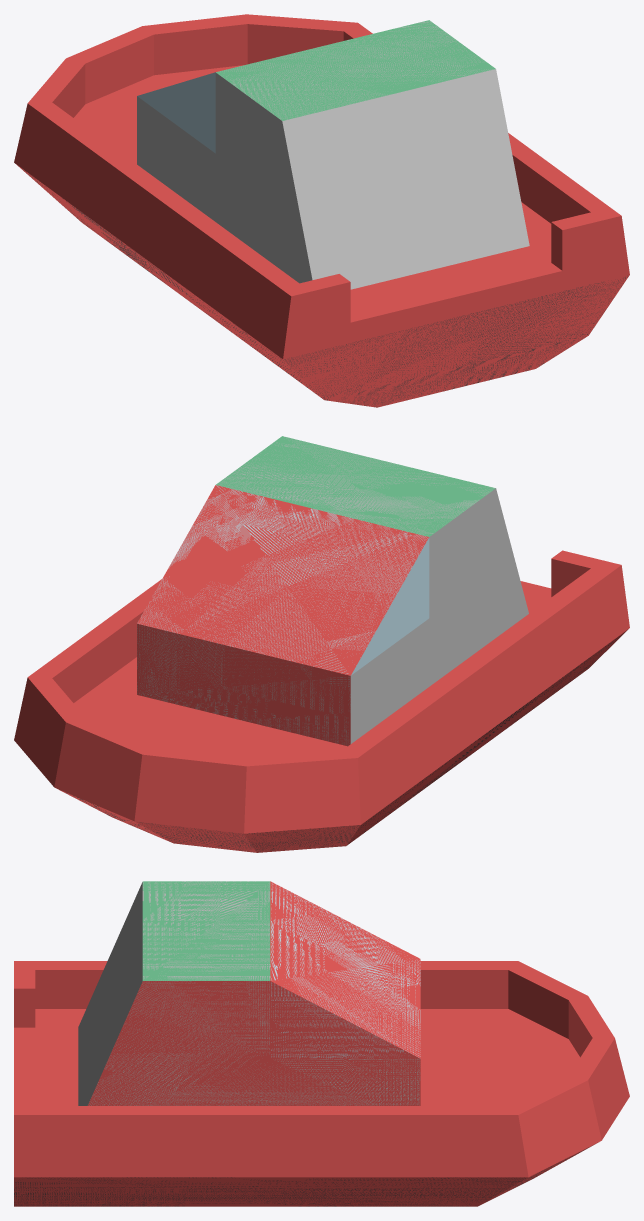
File: boat_009.dae
The picture shows the model from 3 angles, top to bottom: view 1: azimuth 30°, elevation 25°; view 2: azimuth 150°, elevation 25°; view 3: azimuth 270°, elevation 25°; orthographic projection. The views are drawn at different scales.
Parts seen in each view (by area): view 1: boat_009; view 2: boat_009; view 3: boat_009.
Boxes of the visible parts, <box> form: boat_009: <box>14,14,629,407</box>; boat_009: <box>14,436,629,852</box>; boat_009: <box>14,881,629,1206</box>.
Size of the model in its own units: 1.78 by 1.2 by 2.87.
